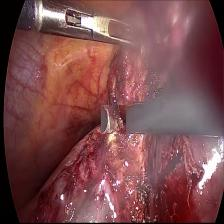Grasper: (36, 5, 146, 41)
Hook: (101, 105, 126, 134)
